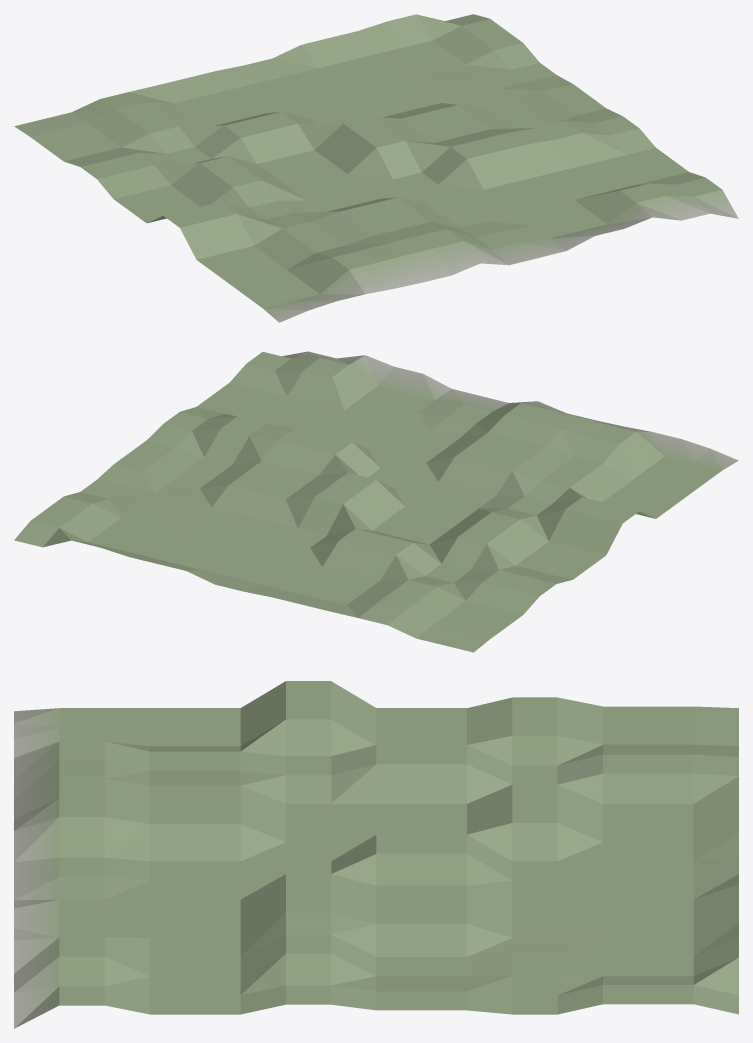
3 renders of one model, top to bottom at view 1: azimuth 30°, elevation 25°; view 2: azimuth 150°, elevation 25°; view 3: azimuth 270°, elevation 25°, orthographic. The views are drawn at different scales.
Size of the model in its own units: 32 by 2.02 by 32.
